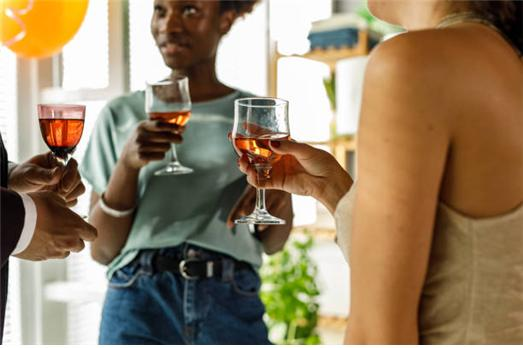alcohol: (232, 100, 287, 226), (147, 77, 193, 177), (38, 88, 86, 168)
